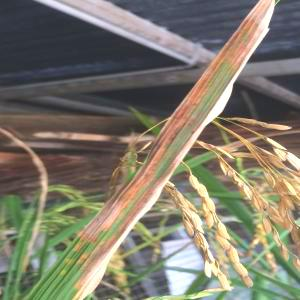2 BacterialBlight: (60, 186, 129, 300)
